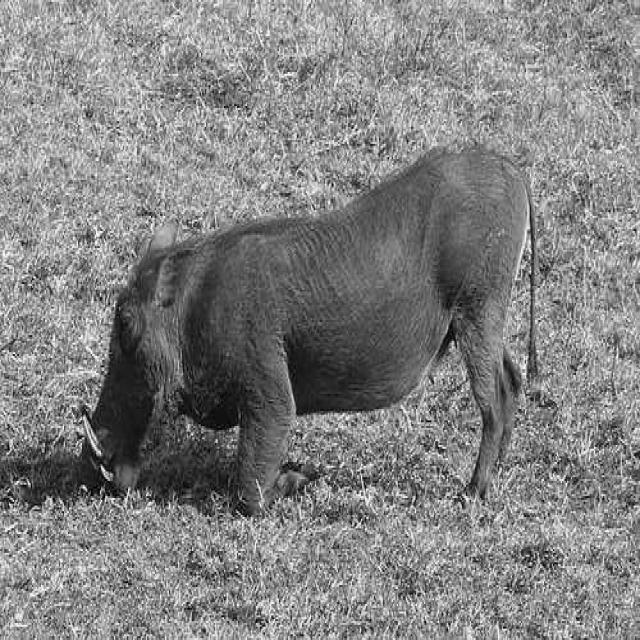boar: (84, 151, 534, 515)
